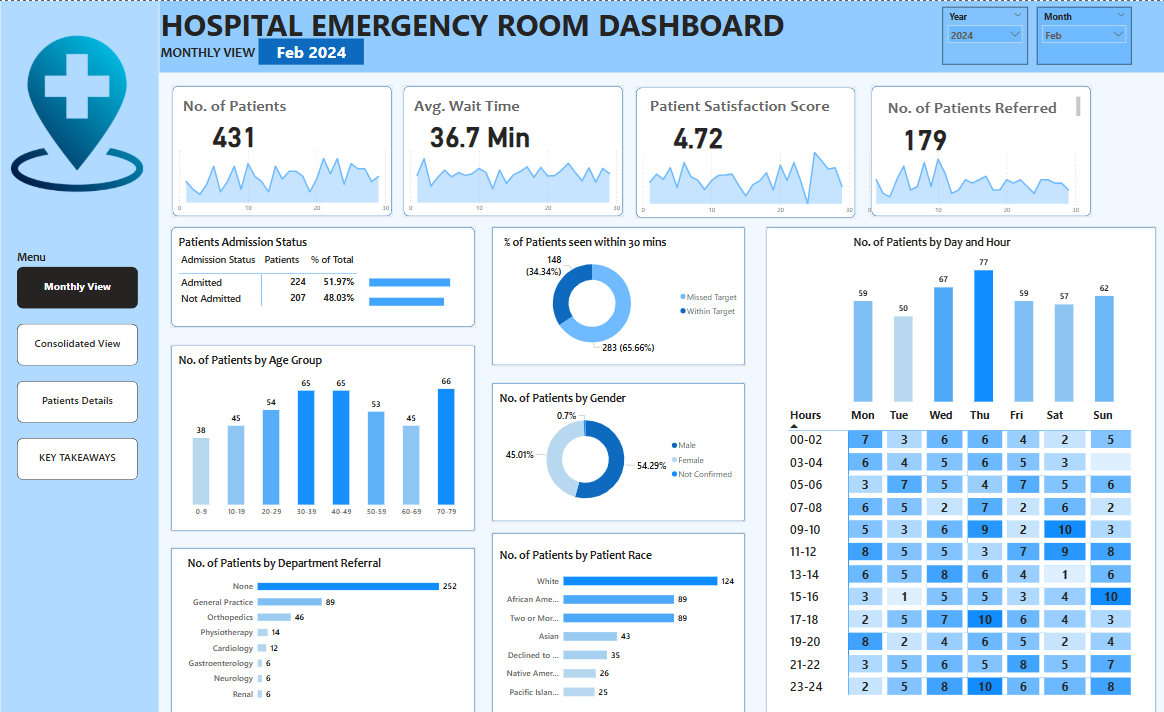

The page's visual inventory and layout, read from the dashboard file:
{"tool":"powerbi","page":{"name":"Monthly View","canvas":[2300,1400],"ordinal":0},"visuals":[{"type":"textbox","box":[318,0,1253.1,138.5],"z":0,"group":"g1"},{"type":"shape","box":[1507.5,442.5,767.5,957.5],"z":0},{"type":"shape","box":[10.2,0,310,1399],"z":1000},{"type":"textbox","box":[318,78.7,280.2,59.8],"z":1000,"group":"g1"},{"type":"shape","box":[319.2,0,1981,140],"z":2000},{"type":"shape","box":[344.7,163.8,434,259.6],"z":3000},{"type":"group","id":"g1","title":"Group 1","box":[318,0,1253.1,138.5],"z":4000},{"type":"card","fields":{"Values":["Hospital ER_Data.No. of Patients"]},"box":[391.5,227.7,153.2,66],"z":5000},{"type":"slicer","fields":{"Values":["Date Table.Year"]},"box":[1855,12.5,167.5,112.5],"z":6000},{"type":"slicer","fields":{"Values":["Date Table.Month"]},"box":[2040,12.5,185,112.5],"z":7000},{"type":"textbox","box":[361.7,178.7,236.2,68.1],"z":8000},{"type":"areaChart","fields":{"Y":["Hospital ER_Data.No. of Patients"],"Category":["Date Table.Date.Variation.Date Hierarchy.Day"]},"box":[344.7,278.7,434,144.7],"z":9000},{"type":"card","fields":{"Values":["Min(Date Table.Month & year)"]},"box":[514.9,74.5,206.4,51.1],"z":10000},{"type":"shape","box":[797.2,163.9,434,259.6],"z":11000},{"type":"card","fields":{"Values":["Hospital ER_Data.Avg.wait time"]},"box":[814.9,227.7,268.1,66],"z":12000},{"type":"textbox","box":[814.3,178.8,236.2,68.1],"z":13000},{"type":"areaChart","fields":{"Y":["Avg(Hospital ER_Data.Patient Waittime)"],"Category":["Date Table.Date.Variation.Date Hierarchy.Day"]},"box":[797.2,278.8,434,144.7],"z":14000},{"type":"shape","box":[1252.6,166.7,434,259.6],"z":15000},{"type":"card","fields":{"Values":["Hospital ER_Data.Avg. Satisfaction Score"]},"box":[1299.4,230.6,153.2,66],"z":16000},{"type":"textbox","box":[1270.2,180.9,383,51.1],"z":17000},{"type":"areaChart","fields":{"Y":["Hospital ER_Data.Avg. Satisfaction Score"],"Category":["Date Table.Date.Variation.Date Hierarchy.Day"]},"box":[1252.6,281.6,434,144.7],"z":18000},{"type":"shape","box":[1714.9,163.8,434,259.6],"z":19000},{"type":"card","fields":{"Values":["Hospital ER_Data.No.of Patients Referred"]},"box":[1744.8,232,153.2,66],"z":20000},{"type":"textbox","box":[1744.7,183,387.2,48.9],"z":21000},{"type":"areaChart","fields":{"Y":["Hospital ER_Data.No.of Patients Referred"],"Category":["Date Table.Date.Variation.Date Hierarchy.Day"]},"box":[1697.9,283,434,144.7],"z":22000},{"type":"shape","box":[342.5,442.5,600,200],"z":23000},{"type":"pivotTable","title":"Patients Admission Status","fields":{"Rows":["Hospital ER_Data.Admission Status"],"Values":["Hospital ER_Data.No. of Patients1","Hospital ER_Data.No. of Patients"]},"box":[352.5,460,385,165],"z":24000},{"type":"barChart","fields":{"Category":["Hospital ER_Data.Admission Status"],"Y":["Hospital ER_Data.No. of Patients"]},"box":[727.5,512.5,222.5,112.5],"z":25000},{"type":"shape","box":[342.5,672.5,600,367.5],"z":26000},{"type":"ribbonChart","fields":{"Category":["Hospital ER_Data.Age Group"],"Y":["Hospital ER_Data.No. of Patients"]},"box":[352.5,692.5,580,330],"z":27000},{"type":"shape","box":[342.5,1070,600,330],"z":28000},{"type":"clusteredBarChart","fields":{"Category":["Hospital ER_Data.Department Referral"],"Y":["Hospital ER_Data.No. of Patients"]},"box":[370,1087.5,540,295],"z":29000},{"type":"shape","box":[970,442.5,500,275],"z":30000},{"type":"donutChart","title":"% of Patients seen within 30 mins","fields":{"Category":["Hospital ER_Data.Waittime status"],"Y":["Hospital ER_Data.No. of Patients"]},"box":[990,460,475,240],"z":31000},{"type":"shape","box":[970,747.5,500,275],"z":32000},{"type":"donutChart","title":"No. of Patients by Gender","fields":{"Category":["Hospital ER_Data.Patient Gender"],"Y":["Hospital ER_Data.No. of Patients"]},"box":[982.5,765,475,240],"z":33000},{"type":"shape","box":[970,1040,500,360],"z":34000},{"type":"columnChart","fields":{"Category":["Hospital ER_Data.Patient Race"],"Y":["Hospital ER_Data.No. of Patients"]},"box":[982.1,1041.5,469.8,339.6],"z":35000},{"type":"pivotTable","fields":{"Rows":["Hospital ER_Data.Waittime Interval"],"Columns":["Date Table.Day Name"],"Values":["Hospital ER_Data.No. of Patients"]},"box":[1547.5,792.5,700,590],"z":36000},{"type":"clusteredColumnChart","title":"No. of Patients by Day and Hour","fields":{"Category":["Date Table.Day Name"],"Y":["Hospital ER_Data.No. of Patients"]},"box":[1675,460,522.5,332.5],"z":37000},{"type":"image","box":[0,0,317.5,442.5],"z":38000},{"type":"pageNavigator","title":"Menu","box":[40,487.5,237.5,452.5],"z":39000}]}

Visuals, with their boxes in screenshot pixels (x1, y1, x2, y2), scaled from the page's 2300x1400 canvas onto the 1164x712 screenshot:
textbox: (161, 0, 795, 70)
shape: (763, 225, 1151, 711)
shape: (5, 0, 162, 711)
textbox: (161, 40, 303, 70)
shape: (162, 0, 1163, 71)
shape: (174, 83, 394, 215)
"Group 1" group: (161, 0, 795, 70)
card - Hospital ER_Data.No. of Patients: (198, 116, 276, 149)
slicer - Date Table.Year: (939, 6, 1024, 64)
slicer - Date Table.Month: (1032, 6, 1126, 64)
textbox: (183, 91, 303, 126)
areaChart - Hospital ER_Data.No. of Patients x Date Table.Date.Variation.Date Hierarchy.Day: (174, 142, 394, 215)
card - Min(Date Table.Month & year): (261, 38, 365, 64)
shape: (403, 83, 623, 215)
card - Hospital ER_Data.Avg.wait time: (412, 116, 548, 149)
textbox: (412, 91, 532, 126)
areaChart - Avg(Hospital ER_Data.Patient Waittime) x Date Table.Date.Variation.Date Hierarchy.Day: (403, 142, 623, 215)
shape: (634, 85, 854, 217)
card - Hospital ER_Data.Avg. Satisfaction Score: (658, 117, 735, 151)
textbox: (643, 92, 837, 118)
areaChart - Hospital ER_Data.Avg. Satisfaction Score x Date Table.Date.Variation.Date Hierarchy.Day: (634, 143, 854, 217)
shape: (868, 83, 1088, 215)
card - Hospital ER_Data.No.of Patients Referred: (883, 118, 961, 152)
textbox: (883, 93, 1079, 118)
areaChart - Hospital ER_Data.No.of Patients Referred x Date Table.Date.Variation.Date Hierarchy.Day: (859, 144, 1079, 218)
shape: (173, 225, 477, 327)
"Patients Admission Status" pivotTable: (178, 234, 373, 318)
barChart - Hospital ER_Data.Admission Status x Hospital ER_Data.No. of Patients: (368, 261, 481, 318)
shape: (173, 342, 477, 529)
ribbonChart - Hospital ER_Data.Age Group x Hospital ER_Data.No. of Patients: (178, 352, 472, 520)
shape: (173, 544, 477, 711)
clusteredBarChart - Hospital ER_Data.Department Referral x Hospital ER_Data.No. of Patients: (187, 553, 461, 703)
shape: (491, 225, 744, 365)
"% of Patients seen within 30 mins" donutChart: (501, 234, 741, 356)
shape: (491, 380, 744, 520)
"No. of Patients by Gender" donutChart: (497, 389, 738, 511)
shape: (491, 529, 744, 711)
columnChart - Hospital ER_Data.Patient Race x Hospital ER_Data.No. of Patients: (497, 530, 735, 702)
pivotTable - Hospital ER_Data.Waittime Interval x Date Table.Day Name: (783, 403, 1137, 703)
"No. of Patients by Day and Hour" clusteredColumnChart: (848, 234, 1112, 403)
image: (0, 0, 161, 225)
"Menu" pageNavigator: (20, 248, 140, 478)
